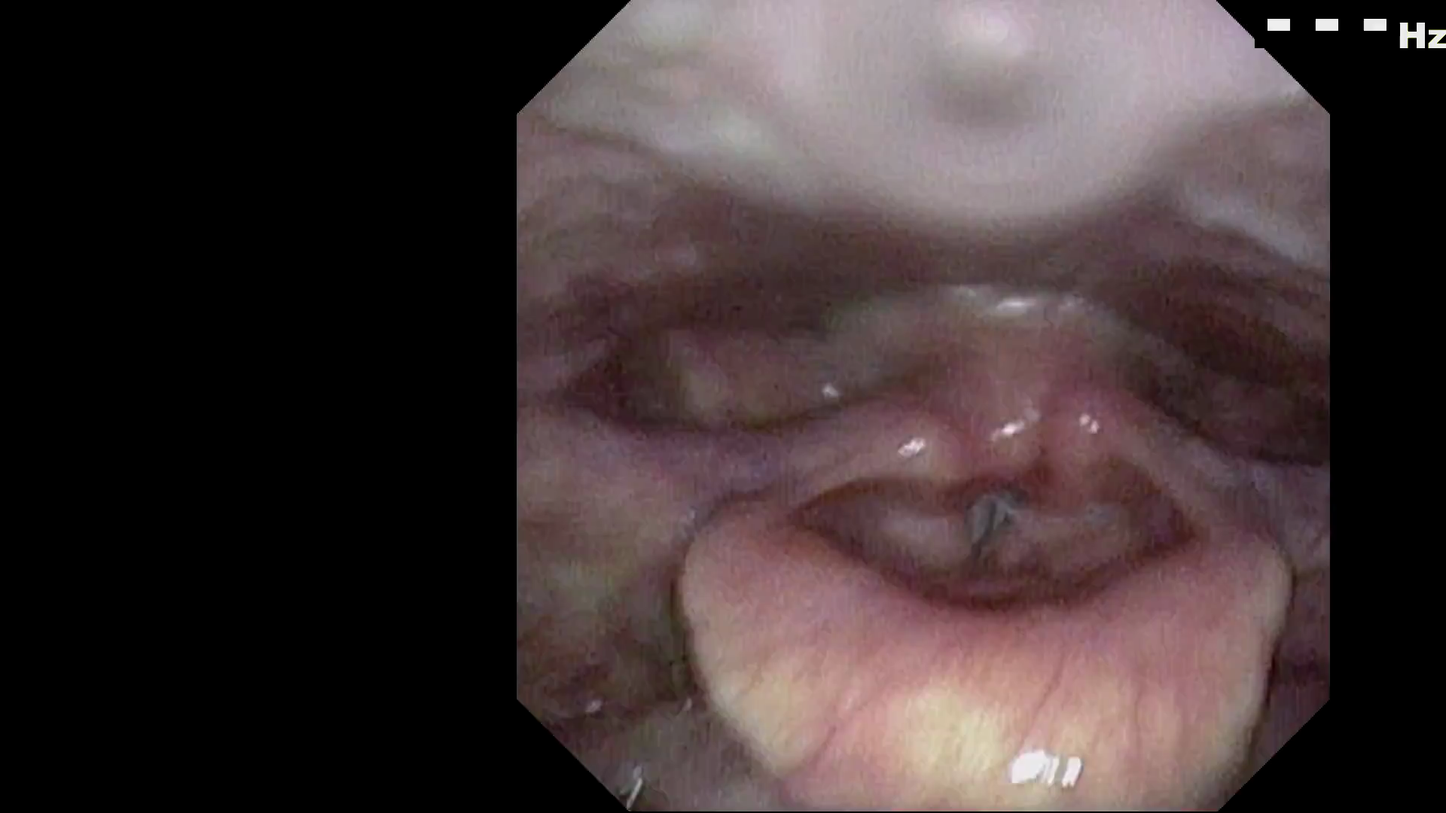epiglottis: (663, 516, 1283, 796)
trachea: (945, 492, 1028, 582)
